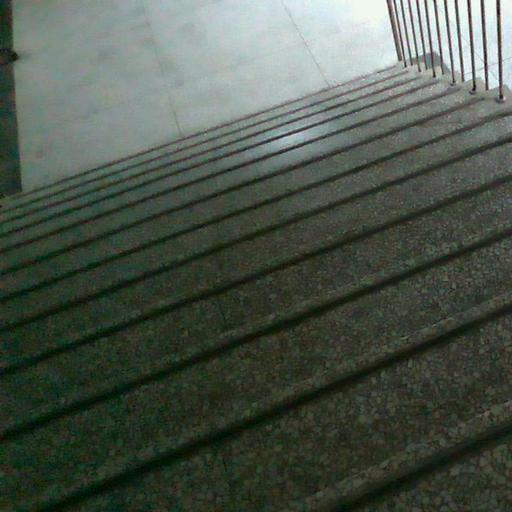Stairs: (0, 67, 512, 512)
